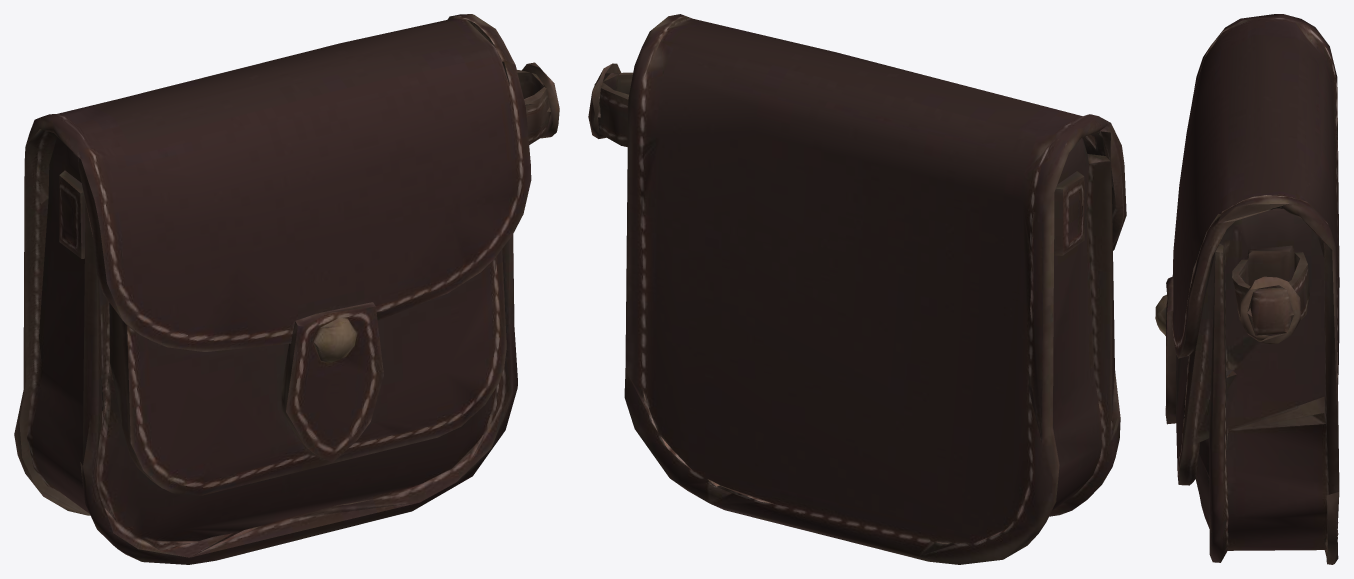
Rendered from belt_pouch.glb.
The picture shows the model from 3 angles, left to right: view 1: azimuth 30°, elevation 25°; view 2: azimuth 150°, elevation 25°; view 3: azimuth 270°, elevation 25°; orthographic projection. The views are drawn at different scales.
Parts seen in each view (by area): view 1: belt_pouch; view 2: belt_pouch; view 3: belt_pouch.
Part boxes in pixels (bbox=[...]): belt_pouch: bbox=[14, 14, 559, 564]; belt_pouch: bbox=[588, 14, 1126, 564]; belt_pouch: bbox=[1155, 14, 1339, 564].
Size of the model in its own units: 0.2 by 0.1714 by 0.0711.
Materials: 1 (1 with a texture image).
